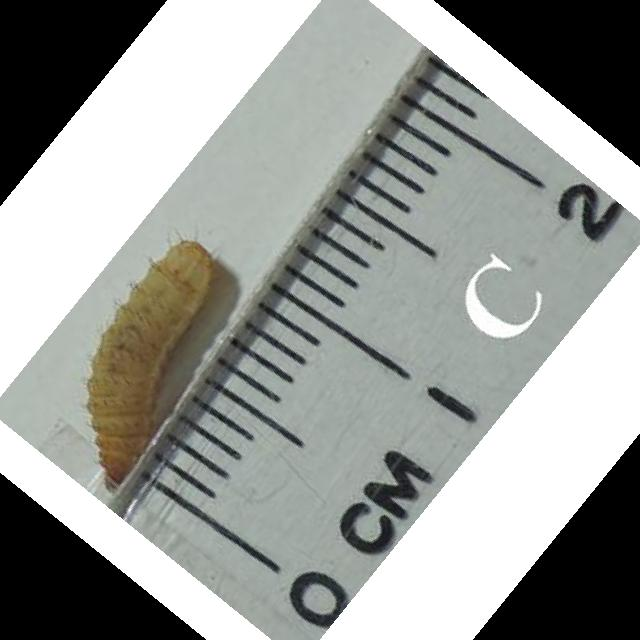Maggot: (81, 237, 219, 492)
